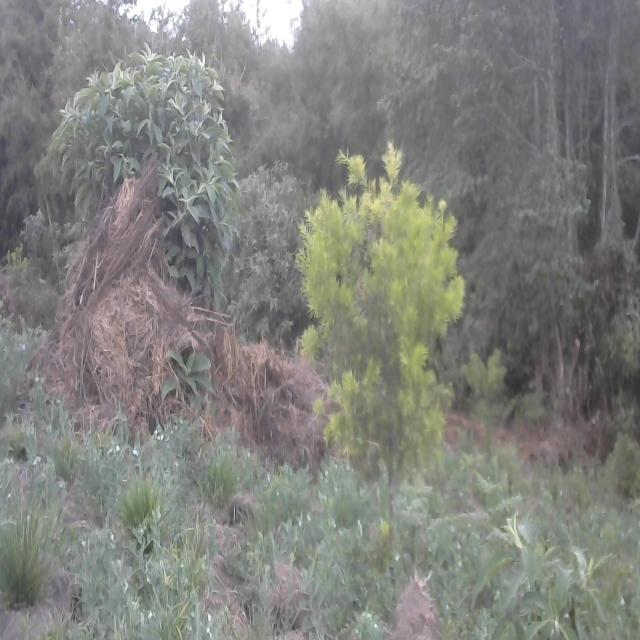Podocarpus falcatus: (292, 135, 474, 633)
